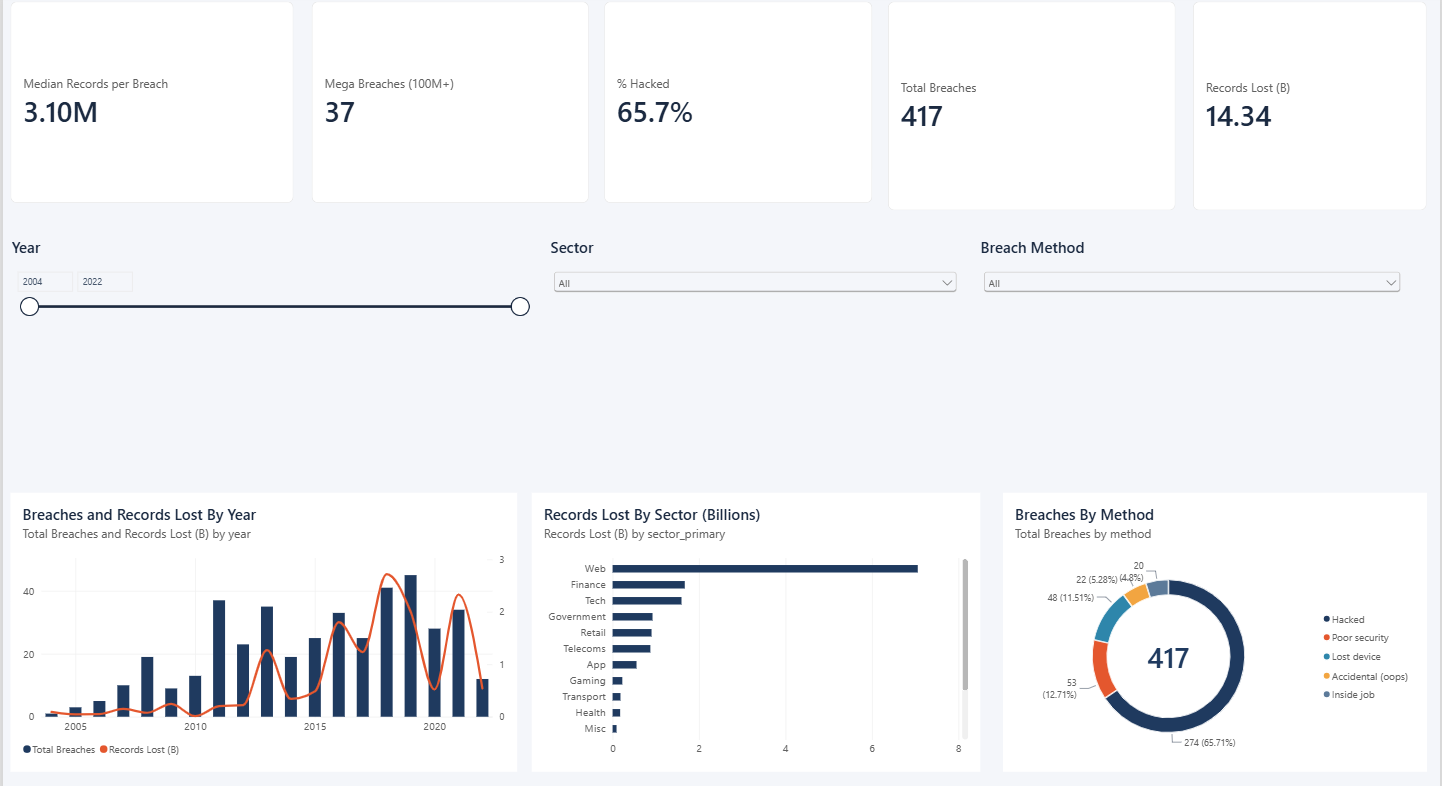

The dashboard page shown, as its layout file describes it:
{"tool":"powerbi","page":{"name":"Overview","canvas":[1920,1080],"ordinal":0},"visuals":[{"type":"cardVisual","fields":{"Data":["breaches.Total Breaches"]},"box":[1181.5,10.3,384.9,279.9],"z":1},{"type":"cardVisual","fields":{"Data":["breaches.Records Lost (B)"]},"box":[1589,10.3,312.9,279.9],"z":2},{"type":"cardVisual","fields":{"Data":["breaches.Median Records per Breach"]},"box":[10.3,10.3,378.7,269.6],"z":3},{"type":"cardVisual","fields":{"Data":["breaches.Mega Breaches (100M+)"]},"box":[411.7,10.3,370.5,269.6],"z":4},{"type":"cardVisual","fields":{"Data":["breaches.% Hacked"]},"box":[802.7,10.3,358.1,269.6],"z":5},{"type":"lineClusteredColumnComboChart","title":"Breaches and Records Lost By Year","fields":{"Category":["breaches.year"],"Y":["breaches.Total Breaches"],"Y2":["breaches.Records Lost (B)"]},"box":[10.3,666.9,677.2,372.6],"z":6},{"type":"clusteredBarChart","title":"Records Lost By Sector (Billions)","fields":{"Category":["breaches.sector_primary"],"Y":["breaches.Records Lost (B)"]},"box":[706,666.9,599,372.6],"z":7},{"type":"donutChart","title":"Breaches By Method","fields":{"Category":["breaches.method"],"Y":["breaches.Total Breaches"]},"box":[1335.9,666.9,566,372.6],"z":8},{"type":"slicer","title":"Year","fields":{"Values":["breaches.year"]},"box":[10.9,323.9,694.9,307.6],"z":9},{"type":"slicer","title":"Sector","fields":{"Values":["breaches.sector_primary"]},"box":[730.7,323.2,547.5,271.7],"z":10},{"type":"slicer","title":"Breach Method","fields":{"Values":["breaches.method"]},"box":[1305,323.2,566,271.7],"z":11}]}

Visuals, with their boxes on the page's 1920x1080 design canvas (x1, y1, x2, y2). These are canvas units, not pixel positions in the 1442x786 screenshot, which may show the page scaled, cropped or inside an application window:
cardVisual - breaches.Total Breaches: region(1182, 10, 1566, 290)
cardVisual - breaches.Records Lost (B): region(1589, 10, 1902, 290)
cardVisual - breaches.Median Records per Breach: region(10, 10, 389, 280)
cardVisual - breaches.Mega Breaches (100M+): region(412, 10, 782, 280)
cardVisual - breaches.% Hacked: region(803, 10, 1161, 280)
"Breaches and Records Lost By Year" lineClusteredColumnComboChart: region(10, 667, 688, 1040)
"Records Lost By Sector (Billions)" clusteredBarChart: region(706, 667, 1305, 1040)
"Breaches By Method" donutChart: region(1336, 667, 1902, 1040)
"Year" slicer: region(11, 324, 706, 632)
"Sector" slicer: region(731, 323, 1278, 595)
"Breach Method" slicer: region(1305, 323, 1871, 595)
